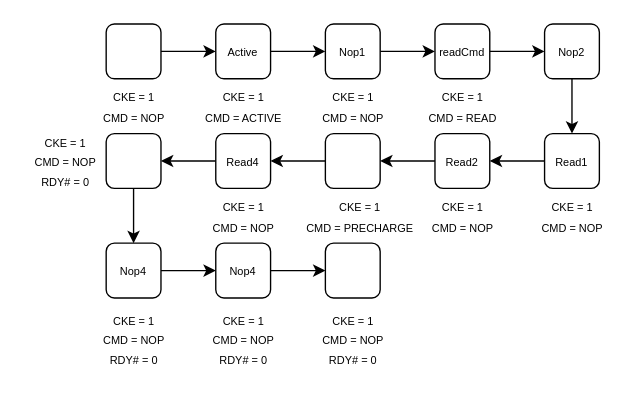
Some shapes in this 636 by 404 pixel diagram are drawn without their labels. The centre of each missing label's shape, as x and y in pixels:
"Idle" goes at [133,51].
"Idle2" goes at [352,270].
"Nop3" goes at [133,160].
"Read3" goes at [352,160].
